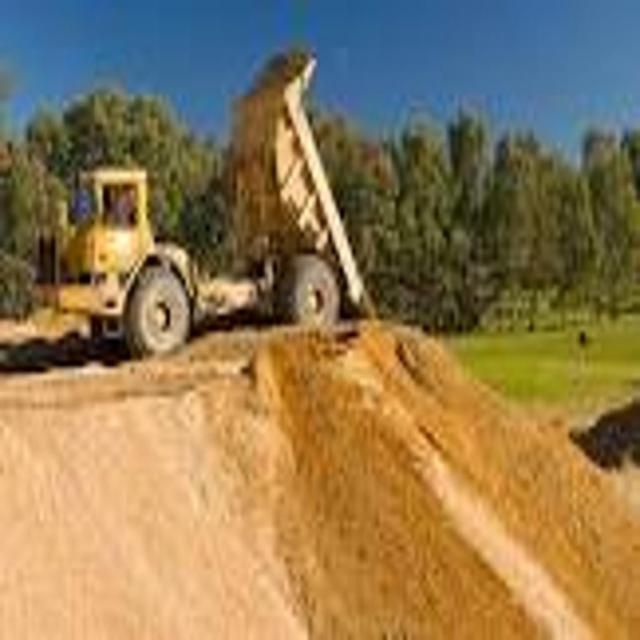dump_truck: (32, 47, 377, 365)
